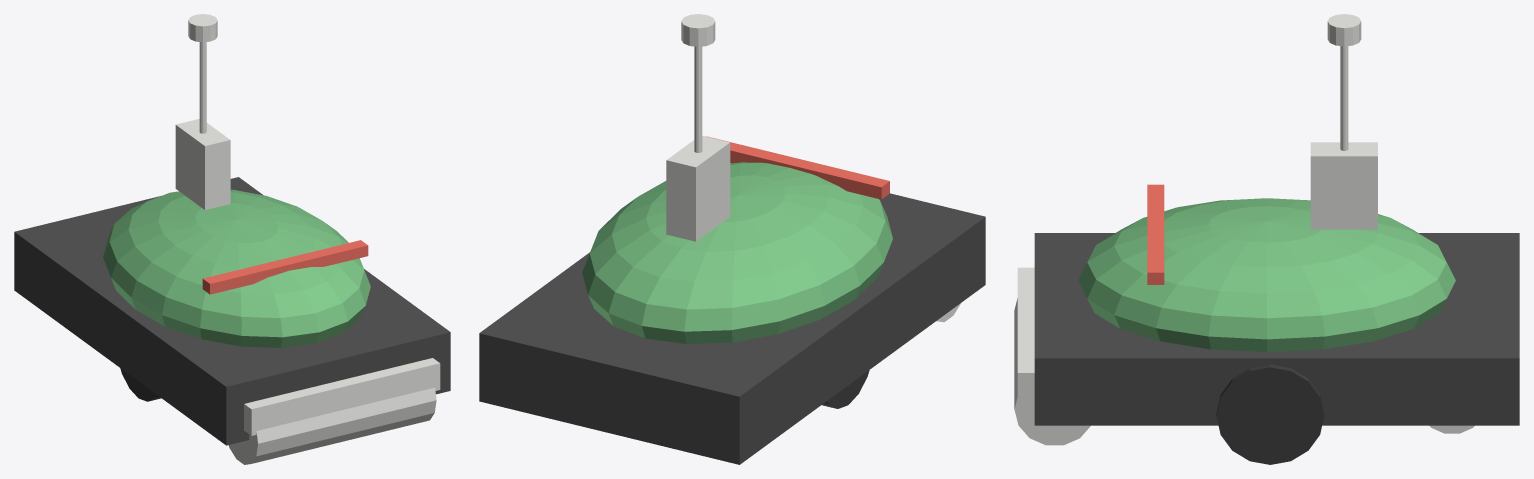
Rendered from mower_greens.glb.
3 renders of one model, left to right at view 1: azimuth 30°, elevation 25°; view 2: azimuth 150°, elevation 25°; view 3: azimuth 270°, elevation 25°, orthographic. The views are drawn at different scales.
Visible parts, largest first — view 1: RobotMowerGreens; view 2: RobotMowerGreens; view 3: RobotMowerGreens.
Part boxes in pixels (bbox=[...]): RobotMowerGreens: bbox=[14, 14, 450, 464]; RobotMowerGreens: bbox=[479, 14, 985, 464]; RobotMowerGreens: bbox=[1014, 14, 1519, 464].
Size of the model in its own units: 0.9 by 1.24 by 1.5.
